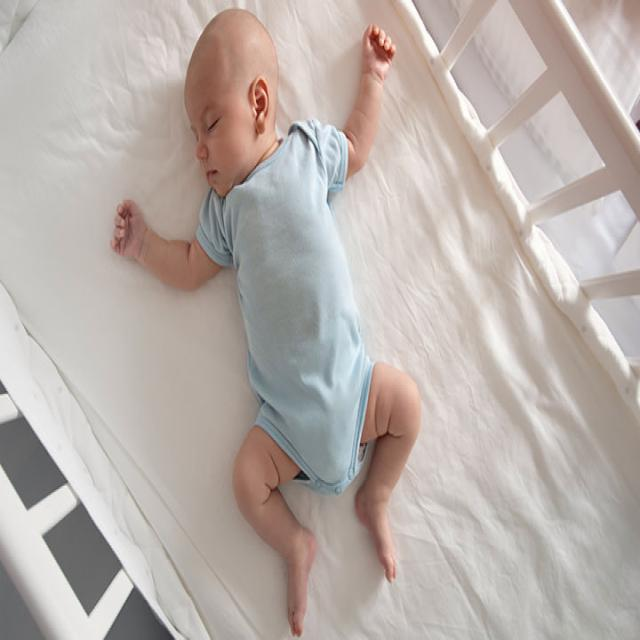child: (109, 10, 423, 640)
